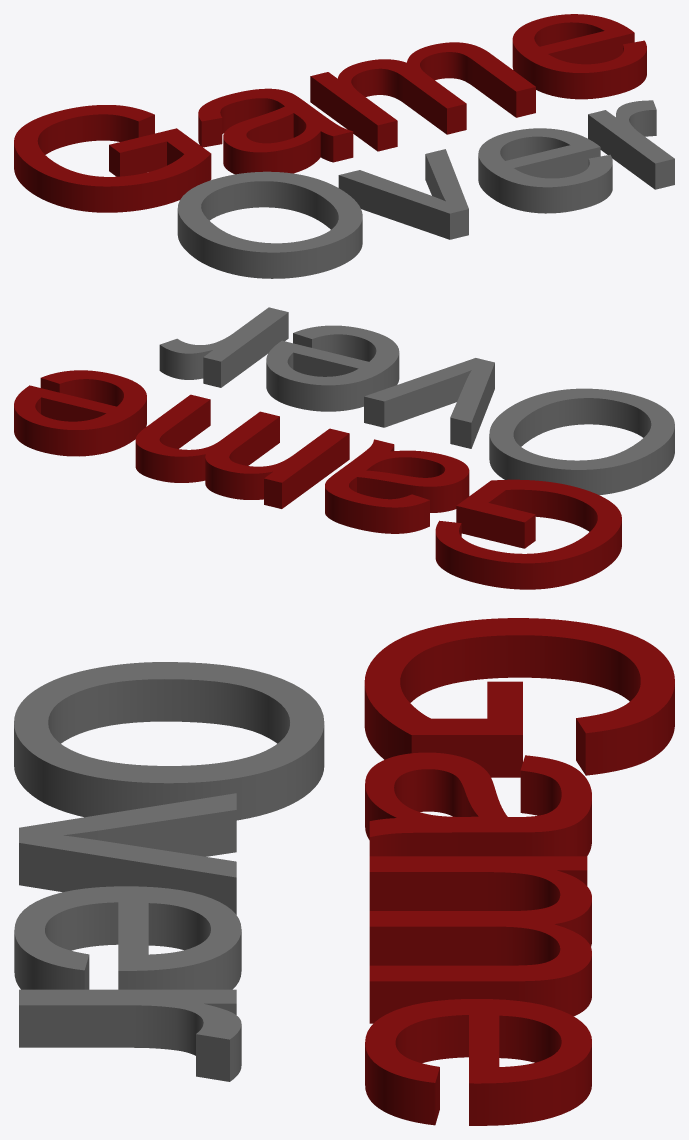
File: gameover.obj
3 views of the same model, one above another, from view 1: azimuth 30°, elevation 25°; view 2: azimuth 150°, elevation 25°; view 3: azimuth 270°, elevation 25° (orthographic). The views are drawn at different scales.
Parts seen in each view (by area): view 1: Text002, Text003; view 2: Text002, Text003; view 3: Text002, Text003.
Part boxes in pixels (x1,y1,x2,y2): Text002: [14, 14, 646, 212]; Text003: [177, 100, 674, 278]; Text002: [14, 370, 621, 589]; Text003: [159, 307, 674, 495]; Text002: [364, 618, 674, 1125]; Text003: [14, 662, 324, 1081].
Bounding box in the file's own units: 188 × 8 × 113.
